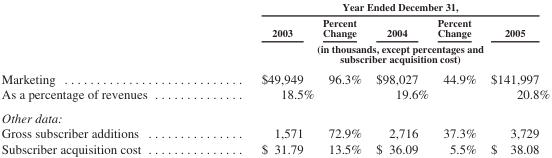table: (0, 0, 549, 155)
table column: (0, 0, 203, 155), (203, 0, 317, 155), (482, 0, 549, 155), (368, 0, 432, 155), (317, 0, 368, 155), (432, 0, 482, 155)
table column header: (0, 0, 549, 67)
table projected row header: (0, 105, 549, 124)
table row: (0, 40, 549, 67), (0, 14, 549, 40), (0, 67, 549, 86), (0, 86, 549, 105), (0, 105, 549, 124), (0, 124, 549, 140), (0, 140, 549, 155), (0, 0, 549, 14)
table spanning cell: (203, 40, 549, 67), (203, 0, 549, 14)
